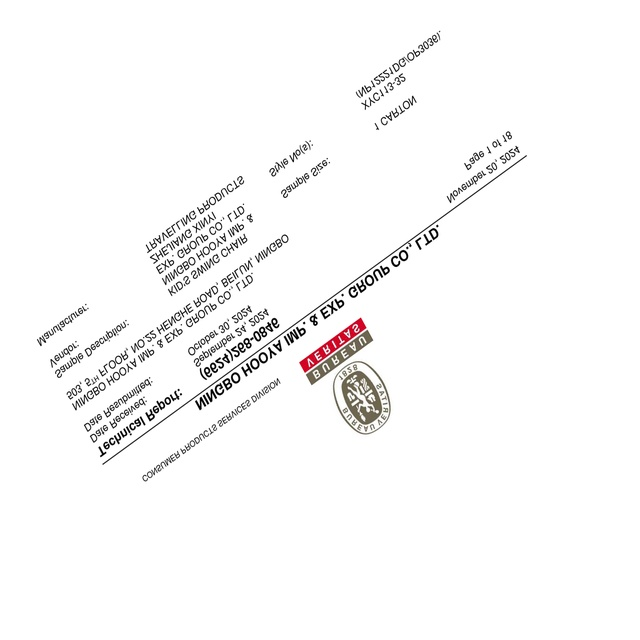bureau_veritas: (300, 317, 392, 434)
